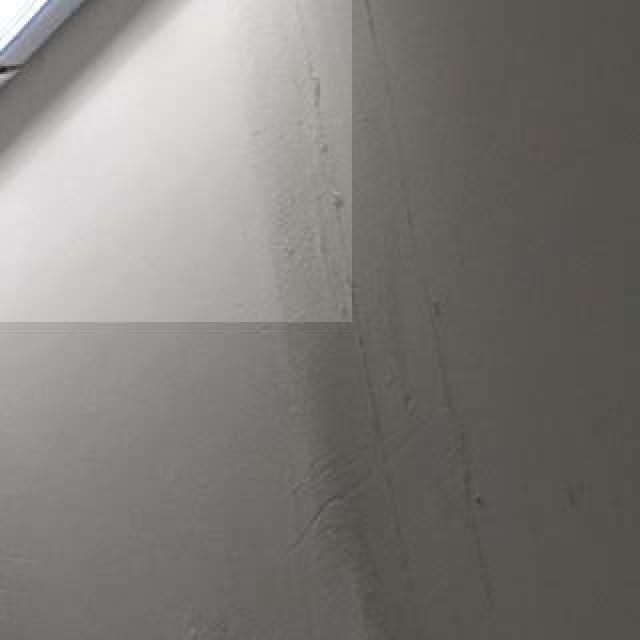fluorescent tube: (0, 0, 286, 282)
